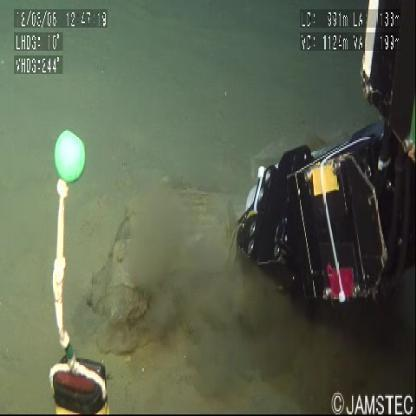Rác: (90, 180, 239, 326)
